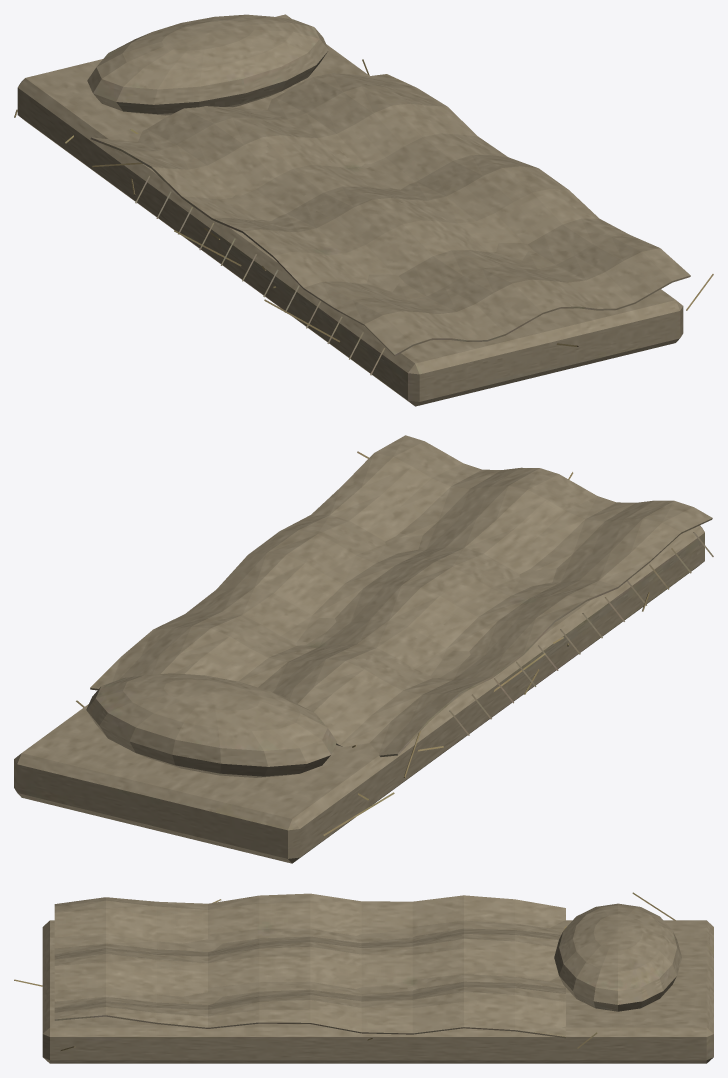
File: straw-bedding.glb
The picture shows the model from 3 angles, top to bottom: view 1: azimuth 30°, elevation 25°; view 2: azimuth 150°, elevation 25°; view 3: azimuth 270°, elevation 25°; orthographic projection. The views are drawn at different scales.
Visible parts, largest first — view 1: straw-bedding; view 2: straw-bedding; view 3: straw-bedding.
Part boxes in pixels (<box>): straw-bedding: <box>14,14,713,406</box>; straw-bedding: <box>14,435,713,863</box>; straw-bedding: <box>14,892,713,1063</box>.
Bounding box in the file's own units: 0.8953 × 0.22 × 1.75.
1 material, 1 textured.
